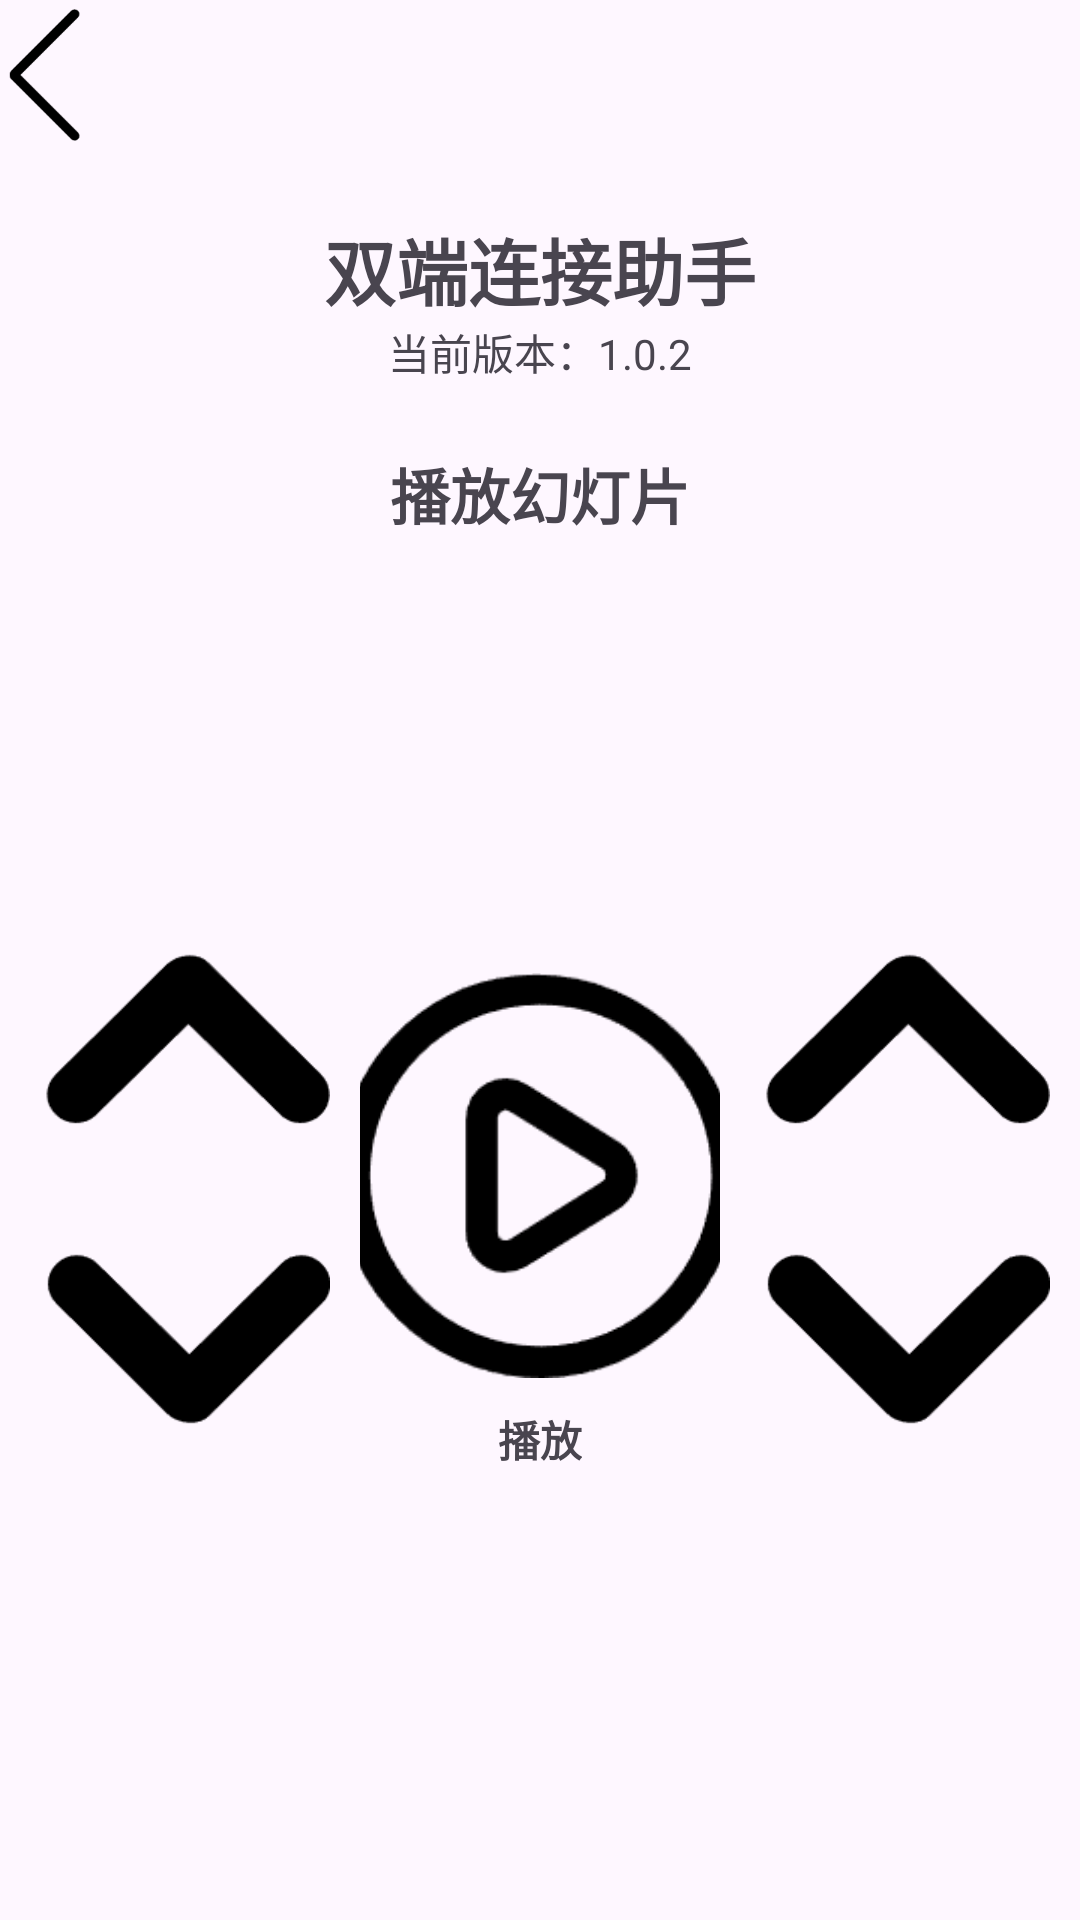

Where icons sit on this 1080×1920 app screen, as (x1, y1, x2, y2):
back: (9, 9, 80, 141)
down: (47, 1254, 330, 1424), (767, 1254, 1050, 1424)
